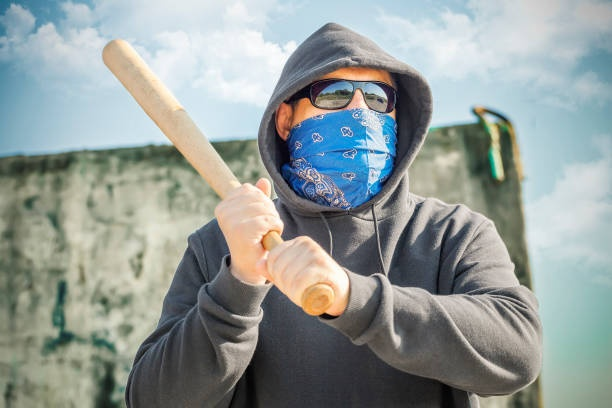bita: (104, 37, 241, 199)
